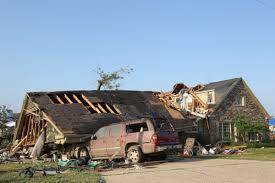destroyed: (16, 59, 273, 155)
